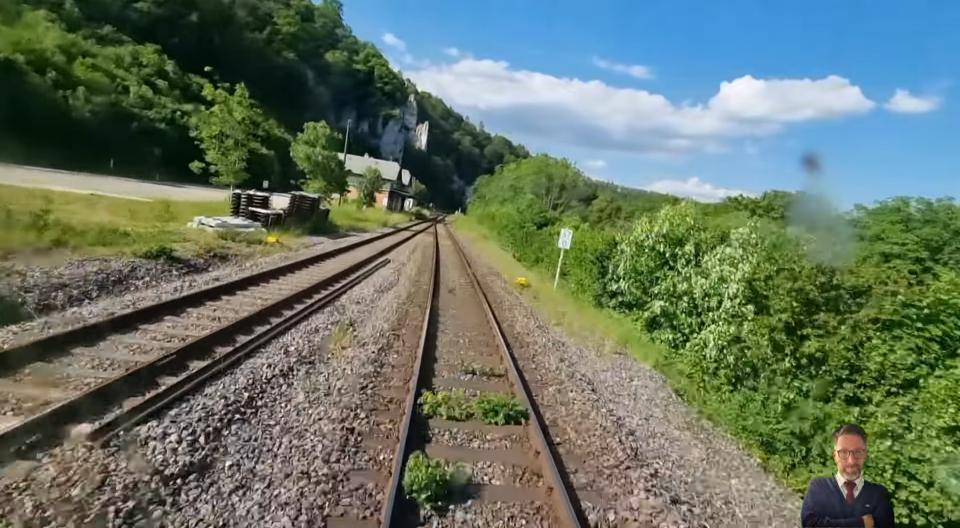Plant: (454, 216, 662, 368), (419, 388, 527, 425), (402, 451, 470, 509), (328, 323, 354, 353)
